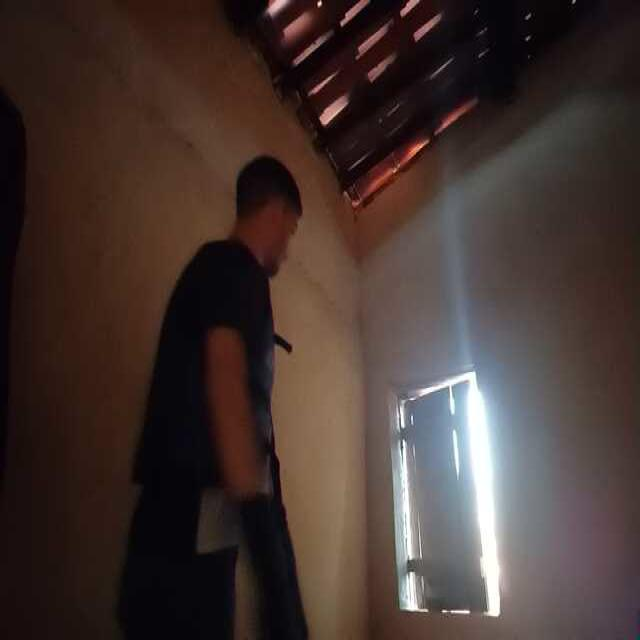colete: (150, 231, 283, 492)
pessoa: (154, 155, 301, 640)
